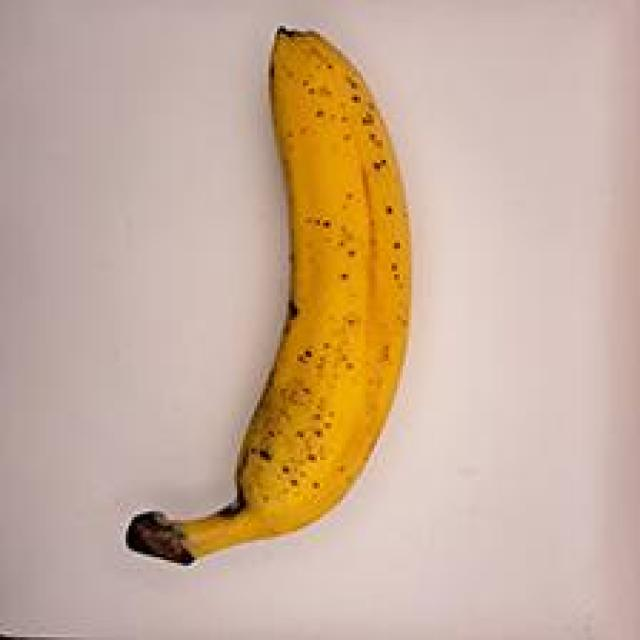Overripe: (96, 0, 444, 592)
